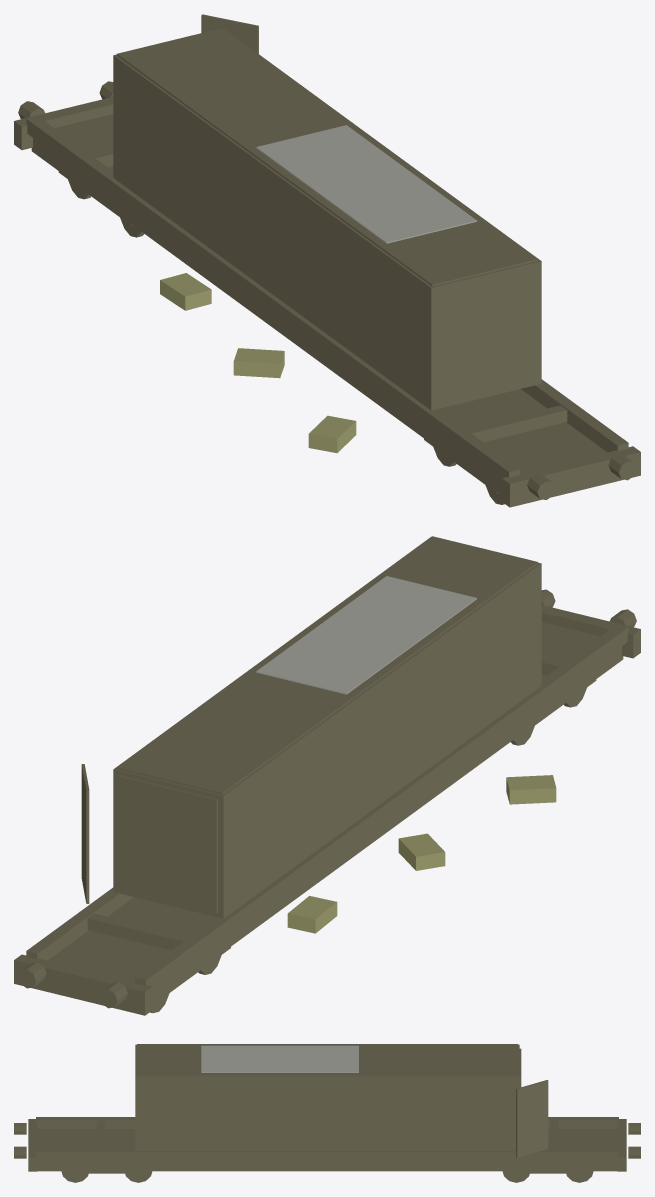
File: SM_VagonAbandonado_v4_Quemado_LOD1.fbx
3 renders of one model, top to bottom at view 1: azimuth 30°, elevation 25°; view 2: azimuth 150°, elevation 25°; view 3: azimuth 270°, elevation 25°, orthographic. The views are drawn at different scales.
Parts seen in each view (by area): view 1: SM_vagon_abandonado_v4_LOD1; view 2: SM_vagon_abandonado_v4_LOD1; view 3: SM_vagon_abandonado_v4_LOD1.
Boxes of the visible parts, <box> form: SM_vagon_abandonado_v4_LOD1: <box>14,14,640,507</box>; SM_vagon_abandonado_v4_LOD1: <box>14,536,640,1015</box>; SM_vagon_abandonado_v4_LOD1: <box>14,1044,640,1182</box>.
Size of the model in its own units: 4.7 by 3.93 by 19.9.
